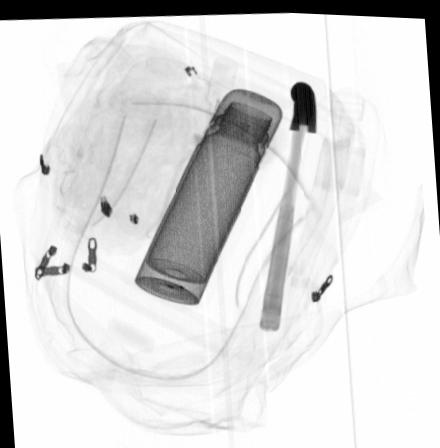Hammer: (259, 76, 317, 328)
